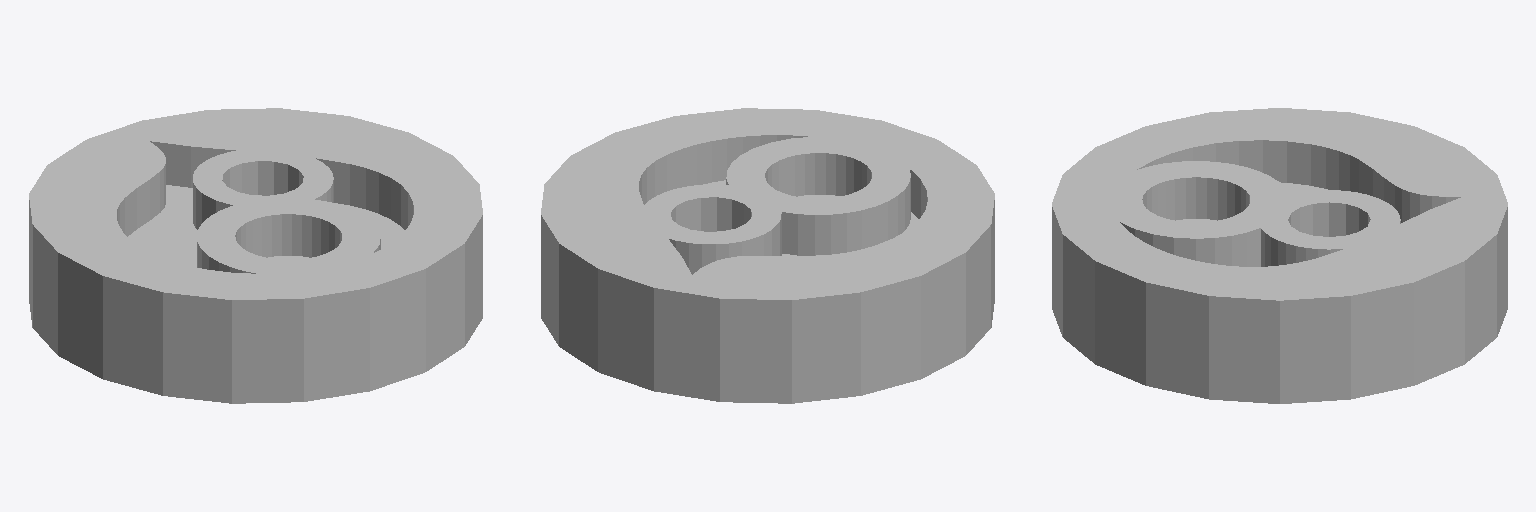
Rendered from Drupal 8 Token Recessed .obj.
3 renders of one model, left to right at view 1: azimuth 30°, elevation 25°; view 2: azimuth 150°, elevation 25°; view 3: azimuth 270°, elevation 25°, orthographic.
Parts seen in each view (by area): view 1: Drupal_8_Token_Recessed; view 2: Drupal_8_Token_Recessed; view 3: Drupal_8_Token_Recessed.
Boxes of the visible parts, <box> form: Drupal_8_Token_Recessed: <box>29,108,482,403</box>; Drupal_8_Token_Recessed: <box>541,108,994,403</box>; Drupal_8_Token_Recessed: <box>1052,108,1507,403</box>.
Bounding box in the file's own units: 20 × 5 × 20.